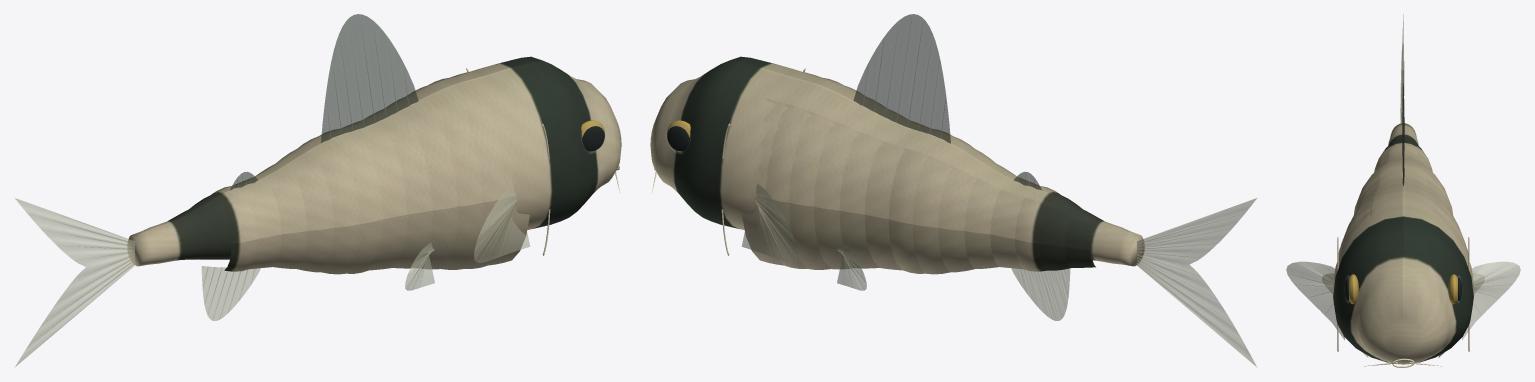
File: panda-mobile.glb
3 views of the same model, side by side, from view 1: azimuth 30°, elevation 25°; view 2: azimuth 150°, elevation 25°; view 3: azimuth 270°, elevation 25° (orthographic). The views are drawn at different scales.
Parts seen in each view (by area): view 1: skin, dorsal, tail, pectoral-left, anal, dorsal-ray, pelvic-left; view 2: skin, dorsal, tail, pectoral-left, anal, dorsal-ray, pelvic-left; view 3: skin, pectoral-left, eye-iris--1, operculum, tail, dorsal, dorsal-ray, pelvic-left.
Part boxes in pixels (box(x1,y1,x2,y2)): skin: box(127, 56, 621, 274); dorsal: box(230, 14, 418, 190); tail: box(15, 198, 134, 366); pectoral-left: box(474, 183, 529, 262); anal: box(201, 266, 260, 320); dorsal-ray: box(29, 15, 516, 343); pelvic-left: box(405, 242, 434, 290); skin: box(650, 56, 1144, 274); dorsal: box(853, 14, 1041, 190); tail: box(1137, 198, 1257, 367); pectoral-left: box(742, 183, 797, 262); anal: box(1011, 268, 1070, 320); dorsal-ray: box(755, 15, 1241, 342); pelvic-left: box(837, 242, 866, 290); skin: box(1332, 123, 1474, 364); pectoral-left: box(1286, 261, 1520, 339); eye-iris--1: box(1349, 274, 1457, 304); operculum: box(1337, 237, 1469, 367); tail: box(1400, 14, 1404, 123); dorsal: box(1402, 70, 1404, 186); dorsal-ray: box(1294, 36, 1513, 311); pelvic-left: box(1322, 273, 1484, 292).
Bounding box in the file's own units: 0.5972 × 0.2593 × 0.2335.
Materials: 11 (1 with a texture image).
